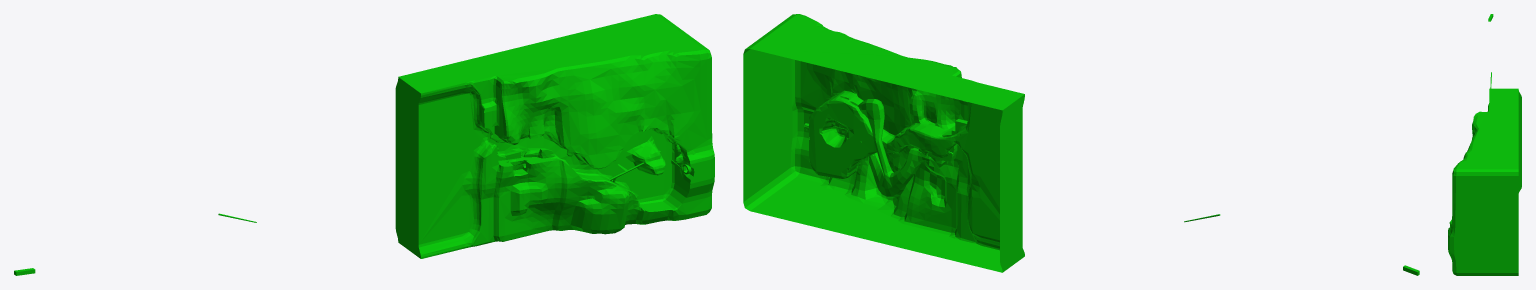
Rendered from woods_0003_col.obj.
3 renders of one model, left to right at view 1: azimuth 30°, elevation 25°; view 2: azimuth 150°, elevation 25°; view 3: azimuth 270°, elevation 25°, orthographic. The views are drawn at different scales.
Visible parts, largest first — view 1: COLLIDE.005_Cube.479; view 2: COLLIDE.005_Cube.479; view 3: COLLIDE.005_Cube.479.
Boxes of the visible parts, bbox=[...] form: COLLIDE.005_Cube.479: bbox=[14, 14, 714, 275]; COLLIDE.005_Cube.479: bbox=[743, 14, 1419, 275]; COLLIDE.005_Cube.479: bbox=[1448, 14, 1521, 275].
Size of the model in its own units: 5912 by 1402 by 881.
